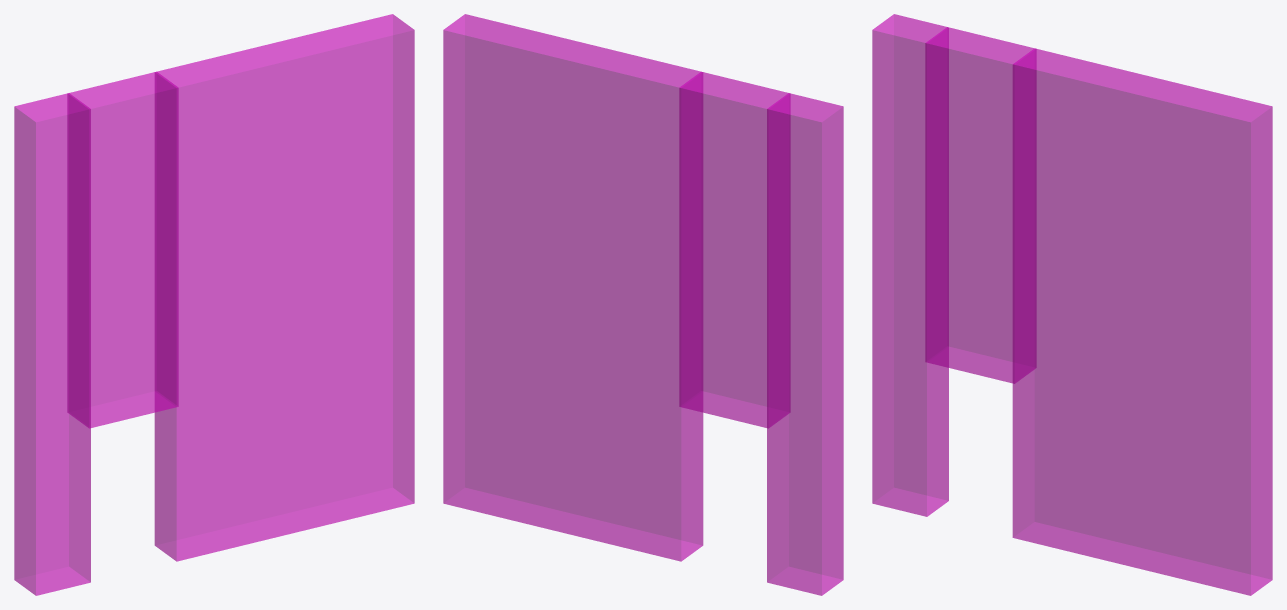
Rendered from SM_Bld_Wall_L_Door_01_Collision.fbx.
3 renders of one model, left to right at view 1: azimuth 30°, elevation 25°; view 2: azimuth 150°, elevation 25°; view 3: azimuth 330°, elevation 25°, orthographic.
Visible parts, largest first — view 1: SM_Bld_Wall_L_Door_01_Collision; view 2: SM_Bld_Wall_L_Door_01_Collision; view 3: SM_Bld_Wall_L_Door_01_Collision.
Part boxes in pixels (x1=…): SM_Bld_Wall_L_Door_01_Collision: x1=14, y1=14, x2=414, y2=595; SM_Bld_Wall_L_Door_01_Collision: x1=443, y1=14, x2=843, y2=595; SM_Bld_Wall_L_Door_01_Collision: x1=872, y1=14, x2=1272, y2=595.
Bounding box in the file's own units: 504 × 603 × 50.52.
